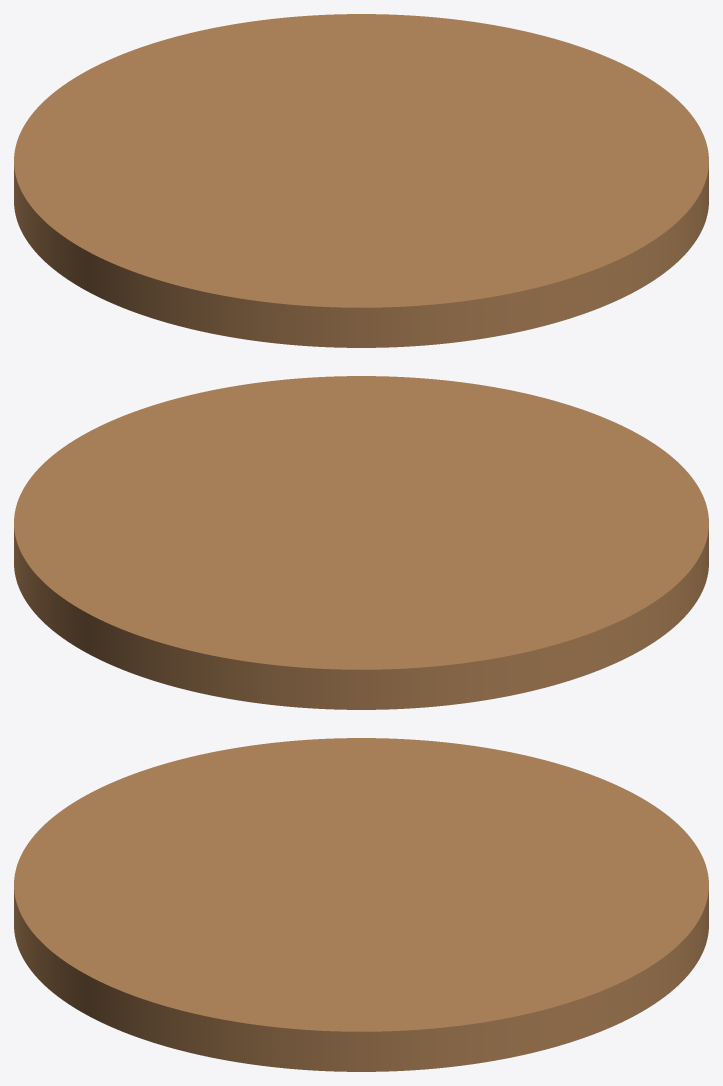
Rendered from model_UNFINISHED.glb.
The picture shows the model from 3 angles, top to bottom: view 1: azimuth 30°, elevation 25°; view 2: azimuth 150°, elevation 25°; view 3: azimuth 270°, elevation 25°; orthographic projection.
Parts seen in each view (by area): view 1: JPY10_1959_SMOOTH; view 2: JPY10_1959_SMOOTH; view 3: JPY10_1959_SMOOTH.
Boxes of the visible parts, box(x1,y1,x2,y2) form: JPY10_1959_SMOOTH: box(14, 14, 708, 347); JPY10_1959_SMOOTH: box(14, 376, 708, 709); JPY10_1959_SMOOTH: box(14, 738, 708, 1071).
Size of the model in its own units: 0.0235 by 0.0015 by 0.0235.
